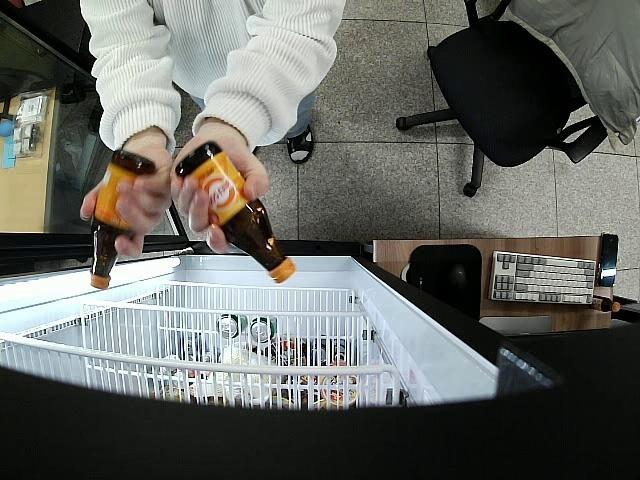17_vita500: (176, 143, 297, 284), (88, 149, 156, 290)
